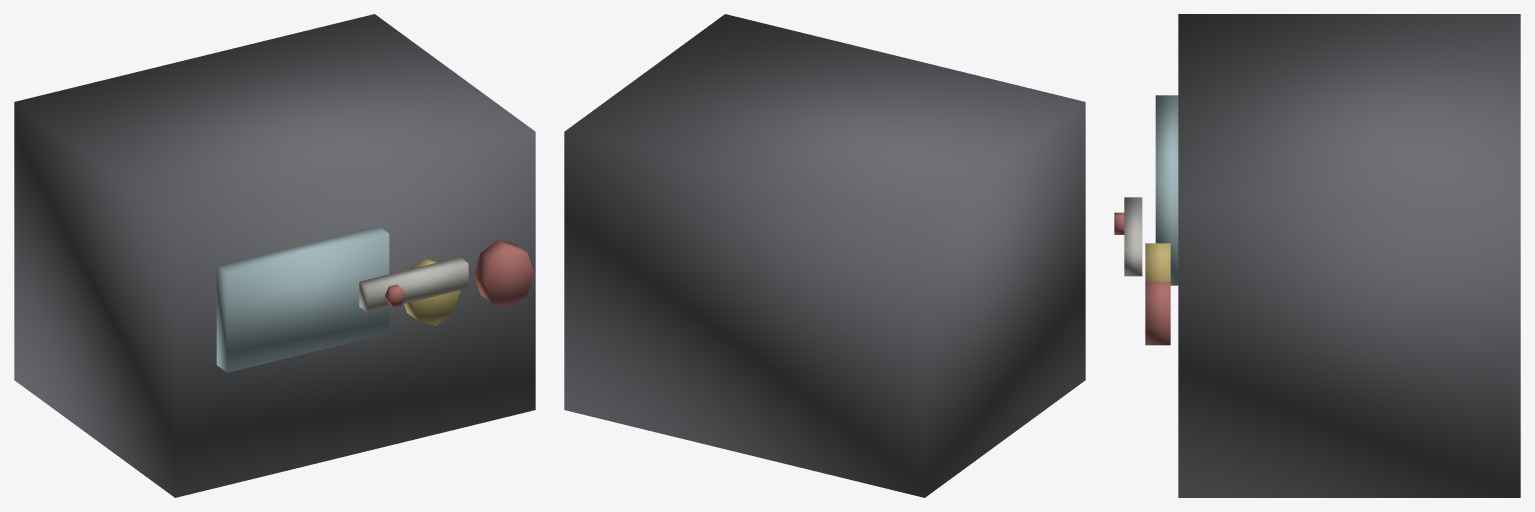
The model's file is bench_power_supply__tall.glb.
3 renders of one model, left to right at view 1: azimuth 30°, elevation 25°; view 2: azimuth 150°, elevation 25°; view 3: azimuth 270°, elevation 25°, orthographic. The views are drawn at different scales.
Parts seen in each view (by area): view 1: world; view 2: world; view 3: world.
Part boxes in pixels (box(x1,y1,x2,y2)): world: box(14, 14, 535, 497); world: box(564, 14, 1085, 497); world: box(1114, 14, 1520, 497).
Bounding box in the file's own units: 0.44 × 0.3248 × 0.4035.
